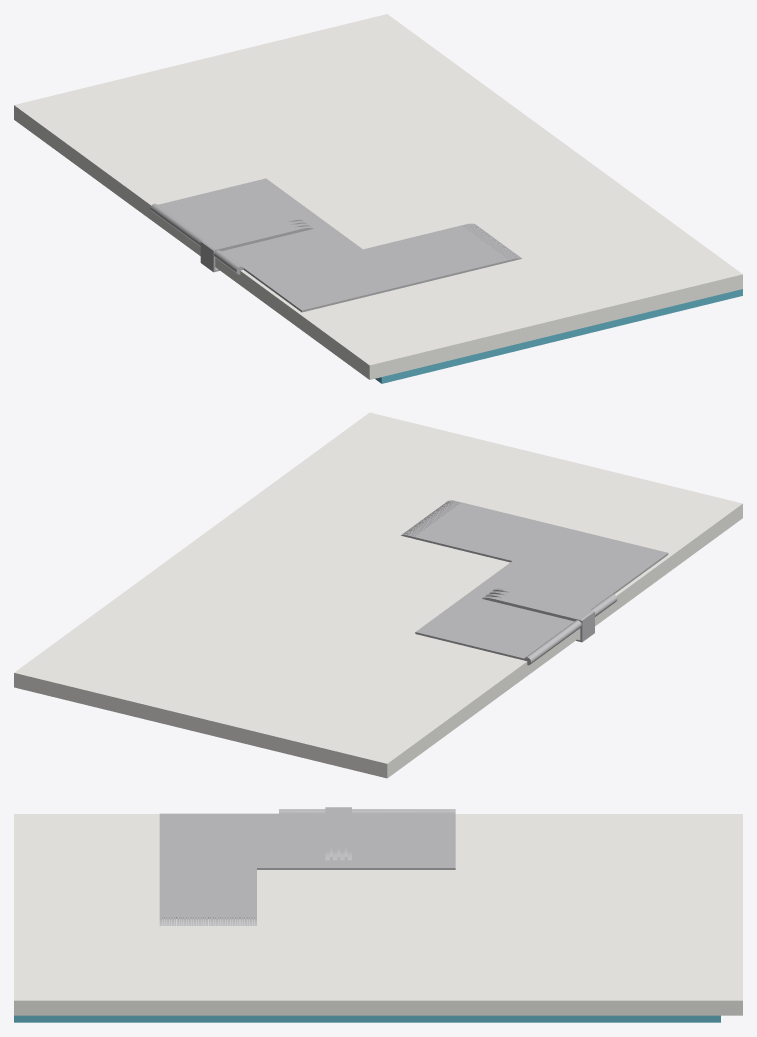
Rendered from ada-2354.glb.
The picture shows the model from 3 angles, top to bottom: view 1: azimuth 30°, elevation 25°; view 2: azimuth 150°, elevation 25°; view 3: azimuth 270°, elevation 25°; orthographic projection. The views are drawn at different scales.
Parts seen in each view (by area): view 1: 1_0.9166666666666666_0.9166666666666666_0.85, 0.5833333333333334_0.5833333333333334_0.5833333333333334_0.8, 0.16666666666666666_0.5833333333333334_0.6666666666666666_0; view 2: 1_0.9166666666666666_0.9166666666666666_0.85, 0.5833333333333334_0.5833333333333334_0.5833333333333334_0.8; view 3: 1_0.9166666666666666_0.9166666666666666_0.85, 0.5833333333333334_0.5833333333333334_0.5833333333333334_0.8, 0.16666666666666666_0.5833333333333334_0.6666666666666666_0.
Part boxes in pixels (x1,y1,x2,y2): 1_0.9166666666666666_0.9166666666666666_0.85: (14,14,742,379); 0.5833333333333334_0.5833333333333334_0.5833333333333334_0.8: (150,178,521,312); 0.16666666666666666_0.5833333333333334_0.6666666666666666_0: (375,289,742,383); 1_0.9166666666666666_0.9166666666666666_0.85: (14,412,742,778); 0.5833333333333334_0.5833333333333334_0.5833333333333334_0.8: (401,500,668,665); 1_0.9166666666666666_0.9166666666666666_0.85: (14,814,742,1015); 0.5833333333333334_0.5833333333333334_0.5833333333333334_0.8: (159,807,455,925); 0.16666666666666666_0.5833333333333334_0.6666666666666666_0: (14,1015,720,1022).
Size of the model in its own units: 10.11 by 0.6705 by 16.5.
